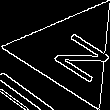N_NW: (34, 22, 105, 83)
